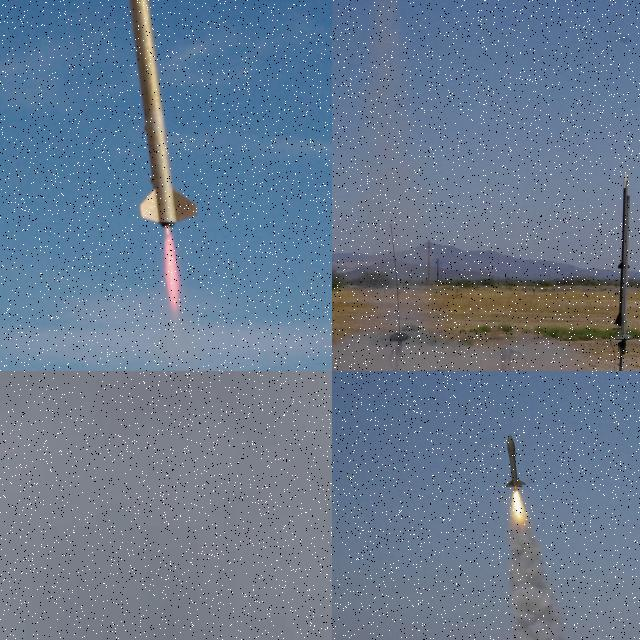Rocket: (126, 0, 200, 228), (616, 171, 630, 328), (504, 433, 527, 488)
